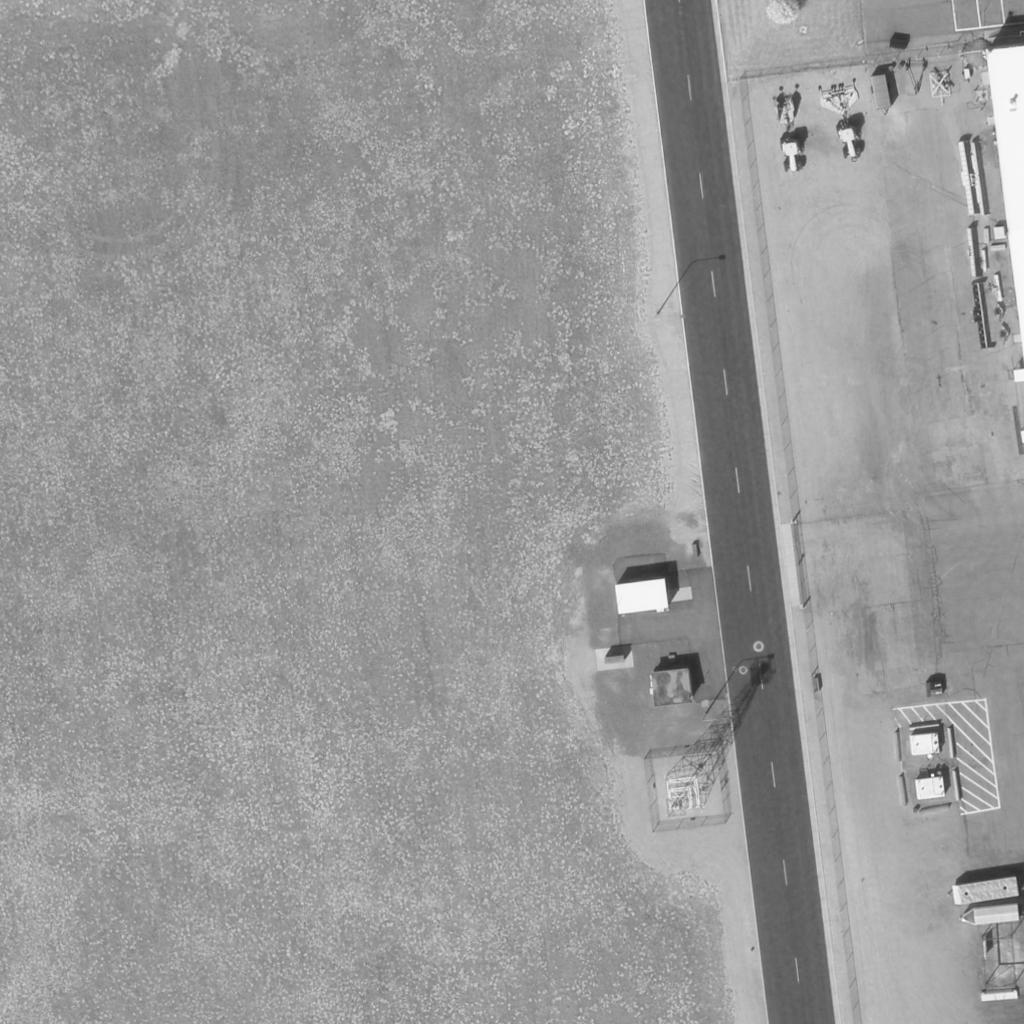vehicle: (833, 121, 867, 163), (777, 139, 809, 173)
